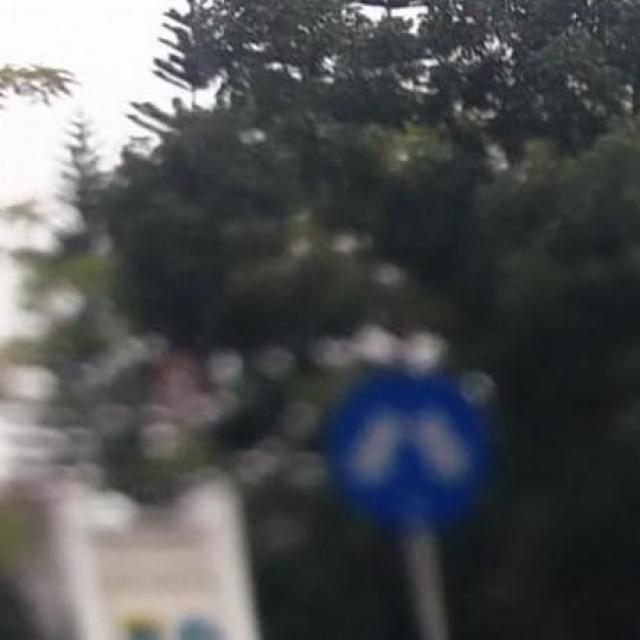traffic sign: (331, 373, 495, 527)
